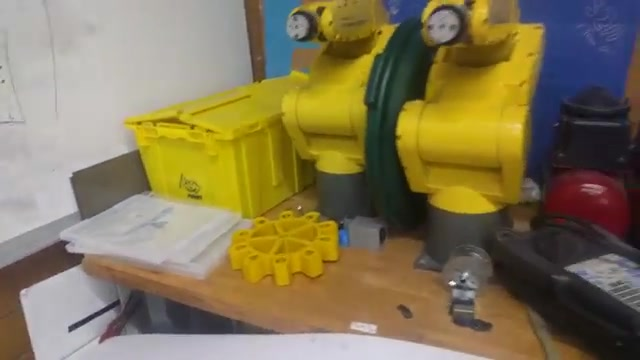gear: (222, 204, 346, 302)
